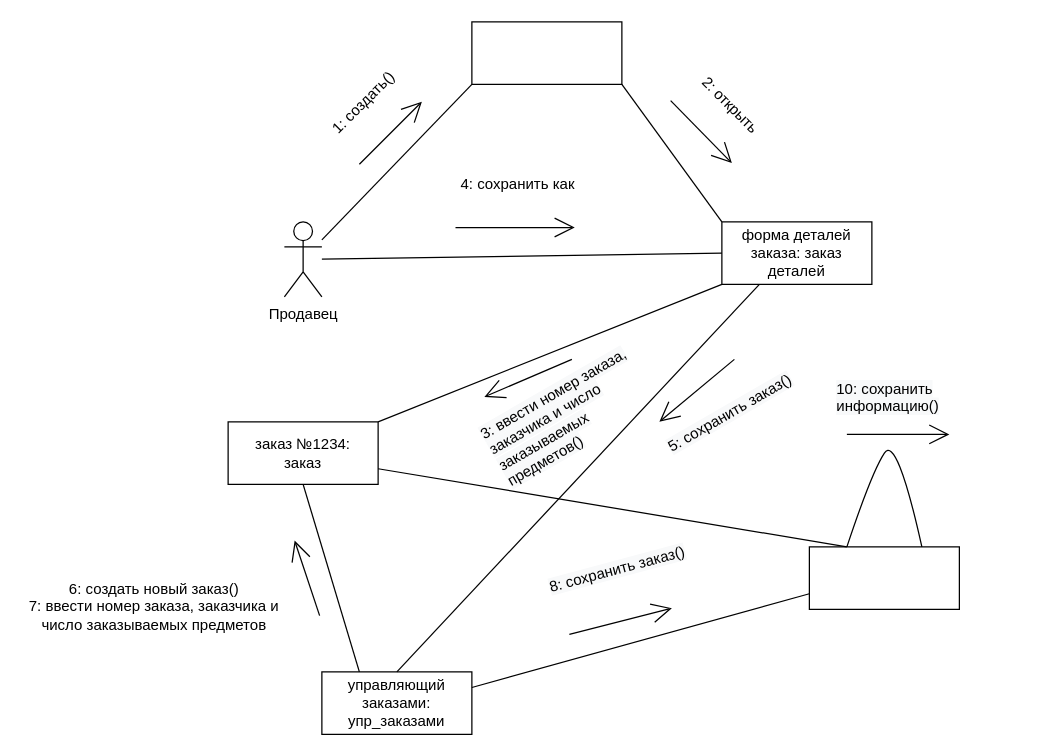
Some shapes in this 1043 by 756 pixel diagram are drawn without their labels. Each missing label, with the centre of its shape:
"выбор варианта заказа: выбор заказа" belongs at (546,52).
"управляющий танзакциями: упр_транзакциями" belongs at (883,577).
